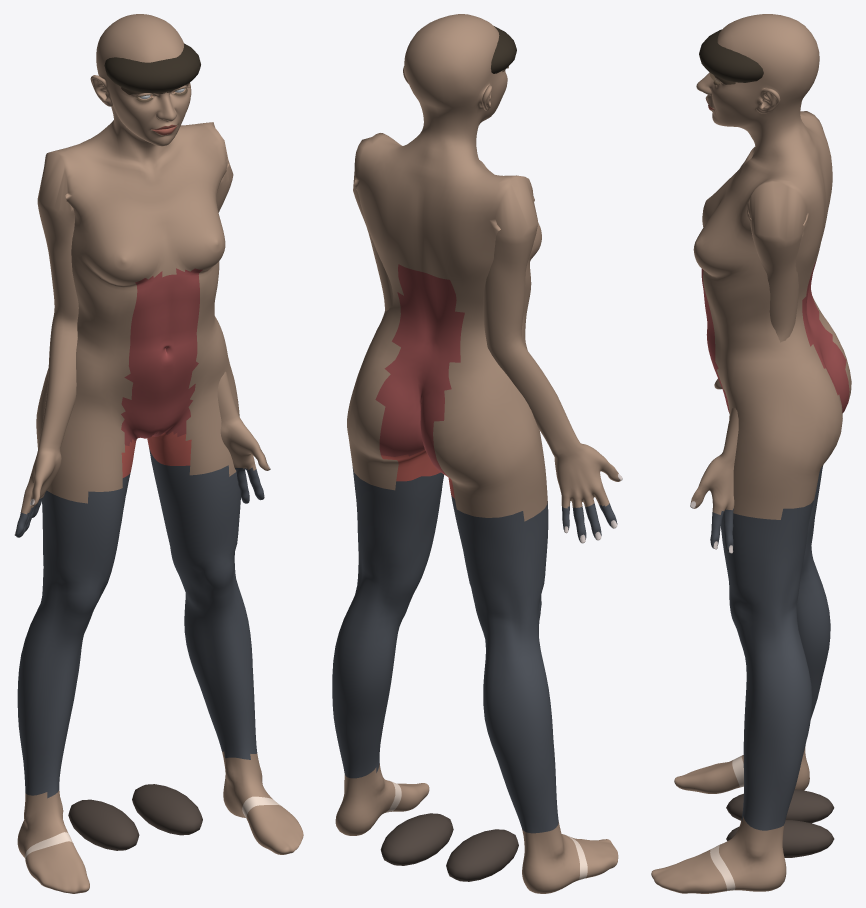
File: hm_ped_dane_v15.glb
3 renders of one model, left to right at view 1: azimuth 30°, elevation 25°; view 2: azimuth 150°, elevation 25°; view 3: azimuth 270°, elevation 25°, orthographic. The views are drawn at different scales.
Parts seen in each view (by area): view 1: hm_ped_dane; view 2: hm_ped_dane; view 3: hm_ped_dane.
Part boxes in pixels (bbox=[...]): hm_ped_dane: bbox=[14, 14, 303, 893]; hm_ped_dane: bbox=[332, 14, 622, 893]; hm_ped_dane: bbox=[651, 14, 851, 893].
Size of the model in its own units: 0.6234 by 1.84 by 0.4065.
